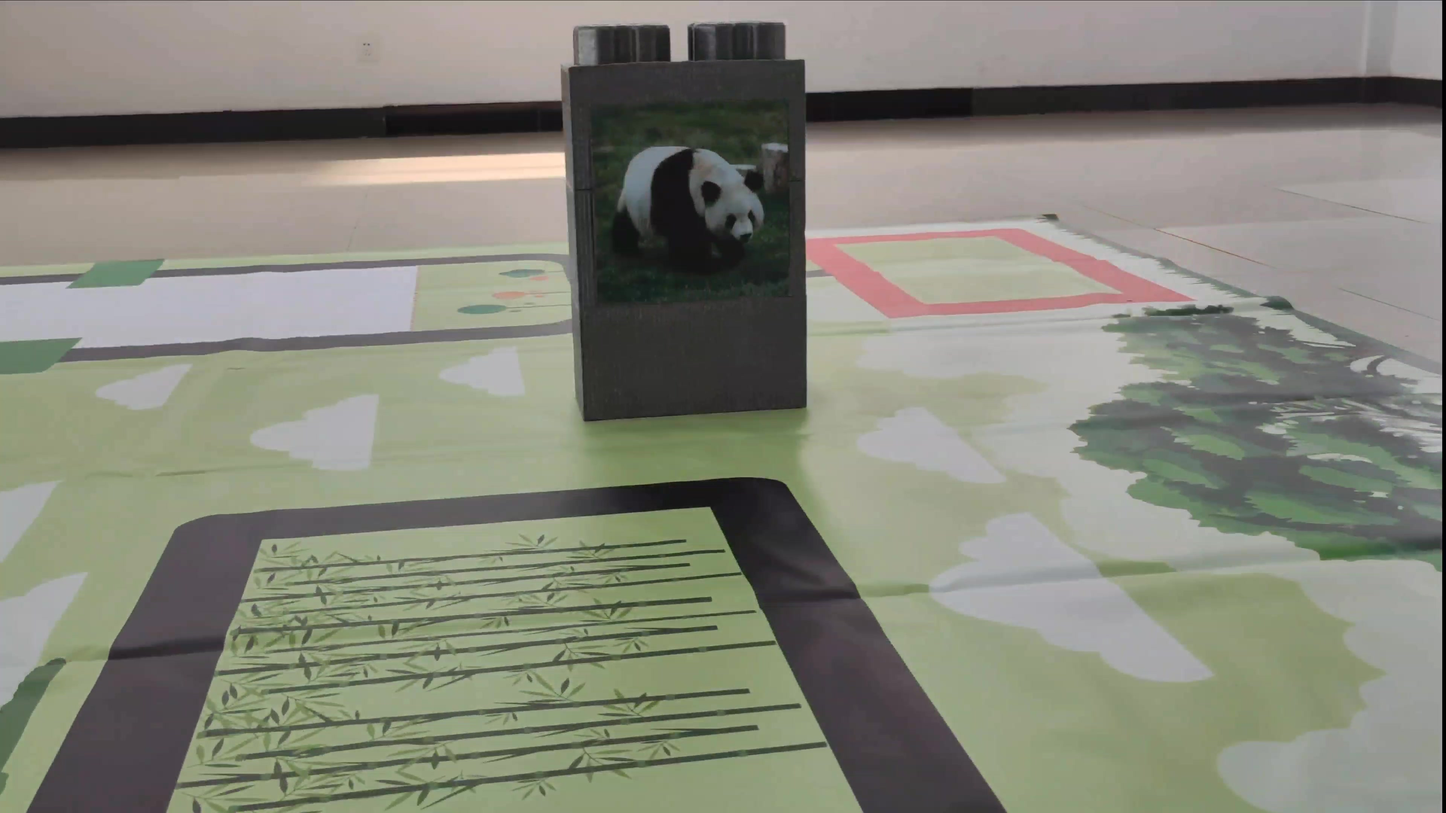panda: (610, 124, 780, 281)
